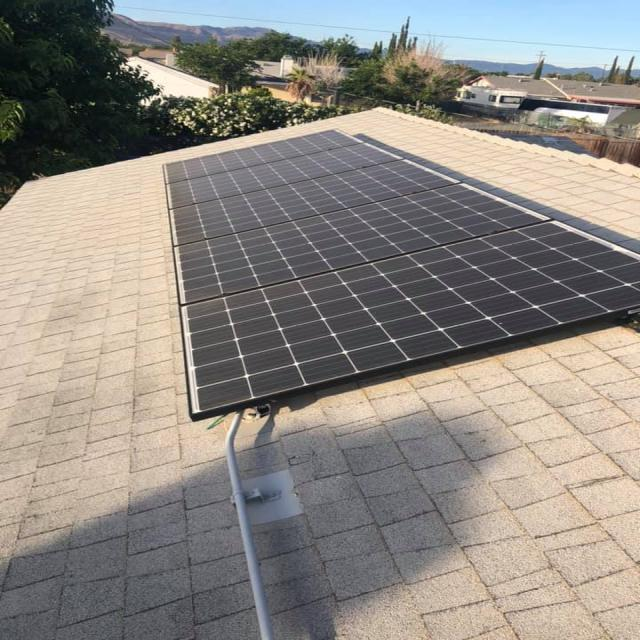dust-solar-panel: (162, 126, 640, 414)
